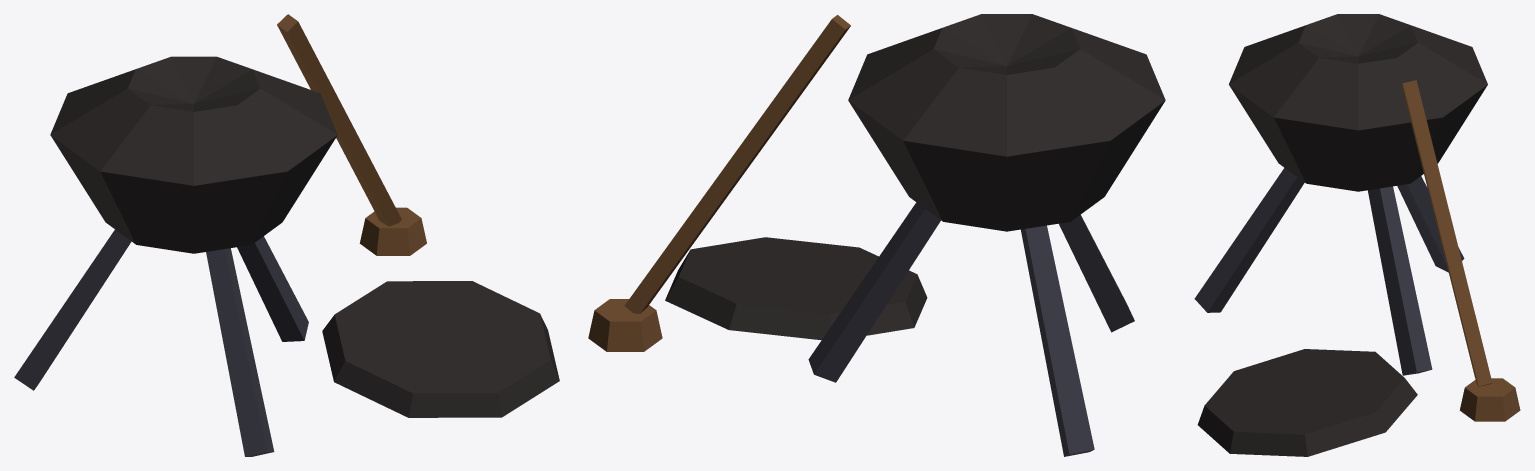
The model's file is prop_camp_pot.glb.
3 renders of one model, left to right at view 1: azimuth 30°, elevation 25°; view 2: azimuth 150°, elevation 25°; view 3: azimuth 270°, elevation 25°, orthographic. The views are drawn at different scales.
Parts seen in each view (by area): view 1: prop_camp_pot; view 2: prop_camp_pot; view 3: prop_camp_pot.
Part boxes in pixels (<box>): prop_camp_pot: <box>14,14,559,456</box>; prop_camp_pot: <box>588,14,1165,456</box>; prop_camp_pot: <box>1194,14,1520,456</box>.
Size of the model in its own units: 0.9367 by 0.6626 by 0.6436.
